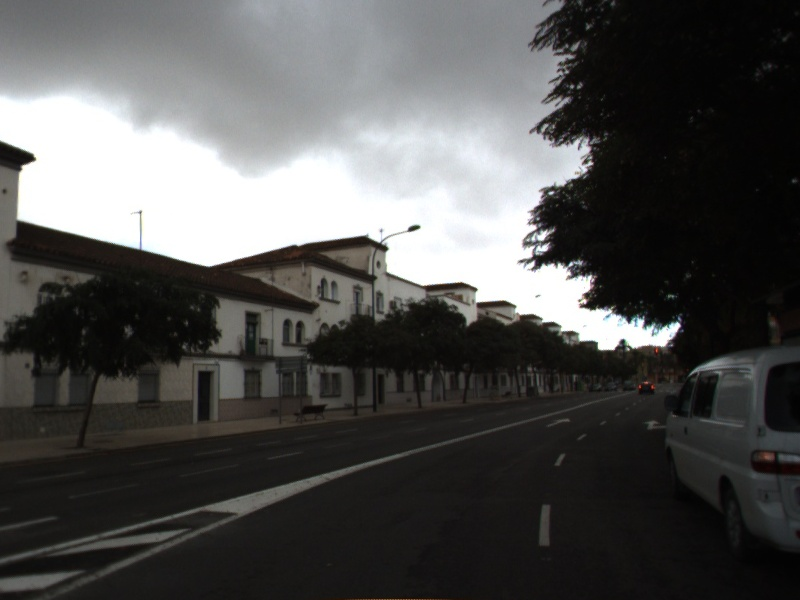STRAIGHT: (544, 416, 572, 428)
STRAIGHT_RIGHT: (642, 419, 669, 430)
